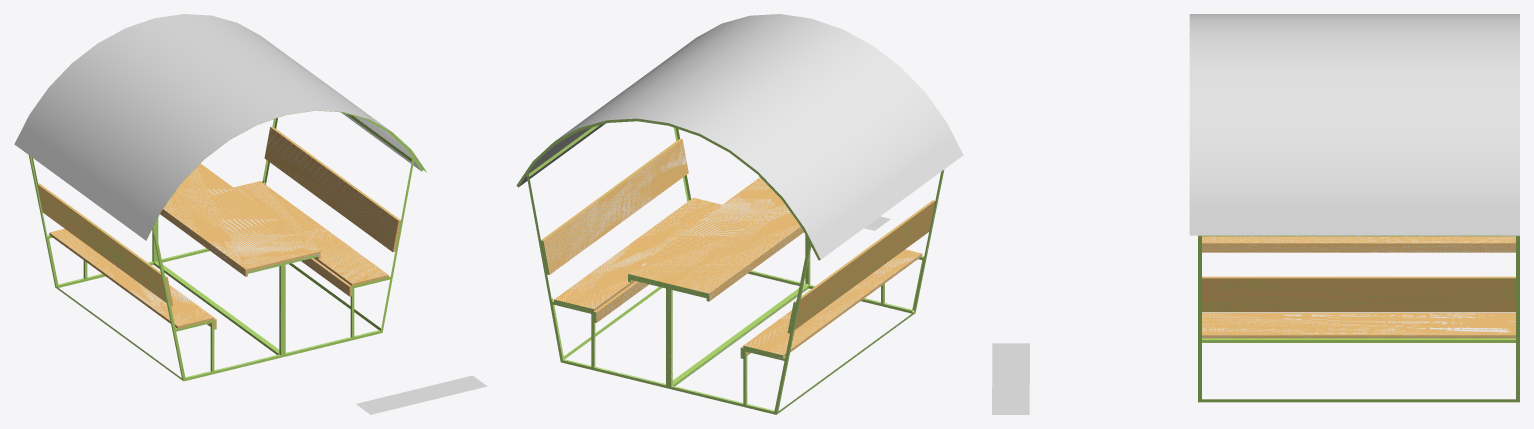
Rendered from altanka1.70na1.90.glb.
3 views of the same model, side by side, from view 1: azimuth 30°, elevation 25°; view 2: azimuth 150°, elevation 25°; view 3: azimuth 270°, elevation 25° (orthographic). The views are drawn at different scales.
Parts seen in each view (by area): view 1: instance_0.007, instance_0.018, instance_0.016, instance_0.011, instance_0.009, instance_0.002, instance_0.010, instance_0.012, Плоскость, instance_0.005; view 2: instance_0.007, instance_0.018, instance_0.012, instance_0.016, instance_0.011, instance_0.002, instance_0.010, instance_0.009, instance_0.005; view 3: instance_0.007, instance_0.005, instance_0.011, instance_0.018, instance_0.009, Плоскость, instance_0.006.
Part boxes in pixels (<box>): instance_0.007: <box>14,14,412,240</box>; instance_0.018: <box>160,163,320,276</box>; instance_0.016: <box>264,127,398,251</box>; instance_0.011: <box>234,181,388,296</box>; instance_0.009: <box>153,112,422,381</box>; instance_0.002: <box>37,183,173,306</box>; instance_0.010: <box>49,228,216,328</box>; instance_0.012: <box>28,118,389,380</box>; Плоскость: <box>356,375,487,414</box>; instance_0.005: <box>270,126,400,252</box>; instance_0.007: <box>528,14,963,259</box>; instance_0.018: <box>628,177,803,301</box>; instance_0.012: <box>516,118,944,414</box>; instance_0.016: <box>543,139,688,274</box>; instance_0.011: <box>554,197,721,322</box>; instance_0.002: <box>794,200,935,329</box>; instance_0.010: <box>741,249,922,357</box>; instance_0.009: <box>529,125,942,384</box>; instance_0.005: <box>541,138,682,240</box>; instance_0.007: <box>1189,14,1519,235</box>; instance_0.005: <box>1202,276,1515,312</box>; instance_0.011: <box>1202,313,1515,338</box>; instance_0.018: <box>1202,236,1515,252</box>; instance_0.009: <box>1198,236,1519,402</box>; Плоскость: <box>992,343,1029,414</box>; instance_0.006: <box>1198,235,1519,236</box>.
Size of the model in its own units: 2.4 by 2 by 3.12.
